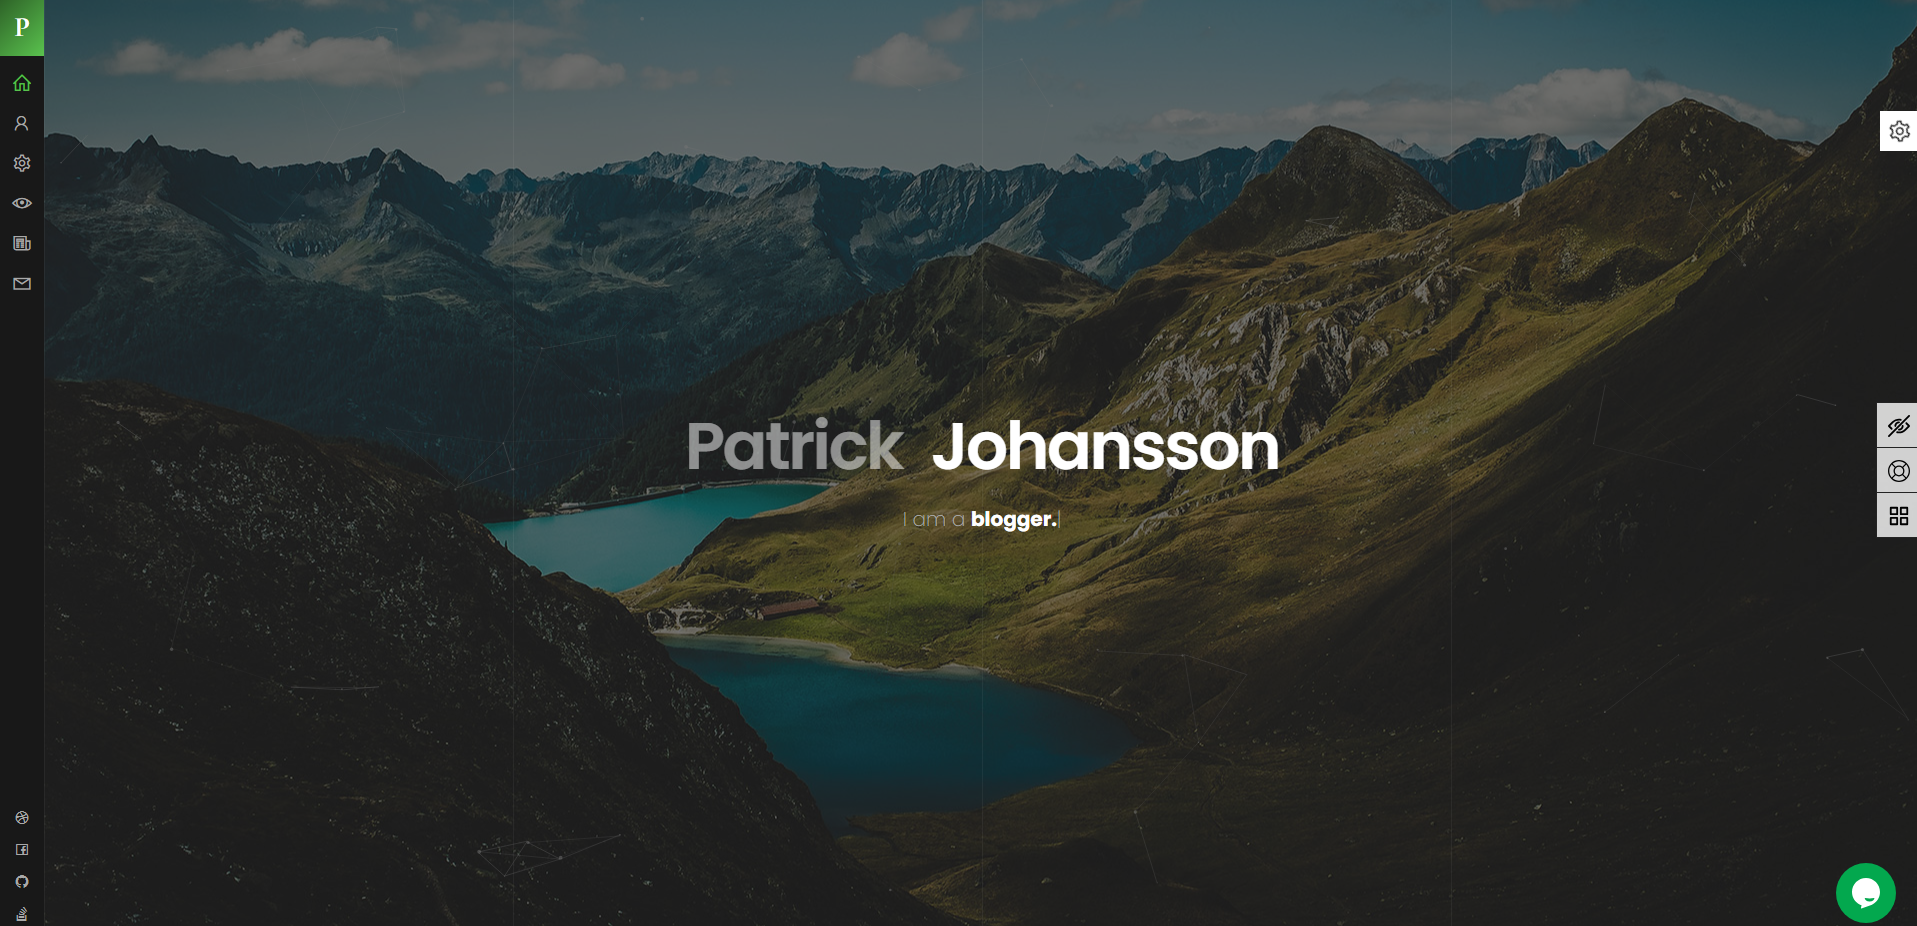menu-icon: (2, 4, 344, 926)
